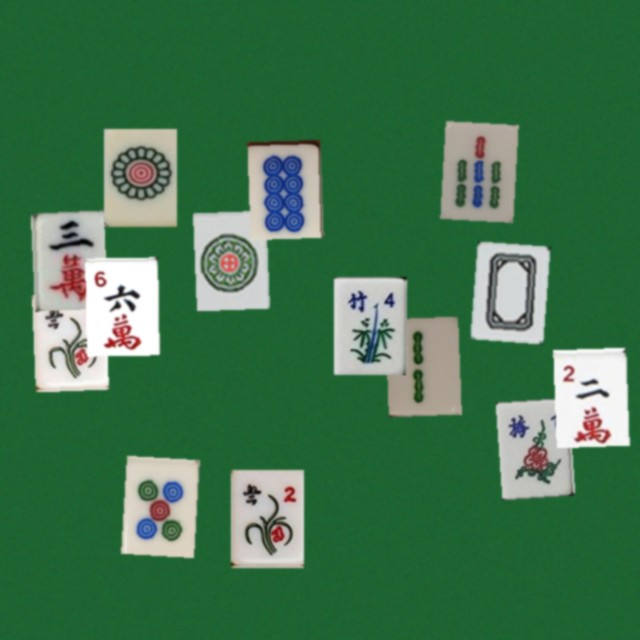tile: (31, 291, 104, 389), (193, 210, 266, 308), (470, 241, 543, 339), (385, 316, 458, 414), (495, 397, 568, 495), (440, 121, 513, 219), (121, 455, 194, 553), (553, 347, 626, 445), (230, 469, 303, 567), (333, 276, 406, 374), (30, 210, 103, 308), (103, 128, 176, 226), (247, 139, 320, 237), (85, 257, 158, 355)
